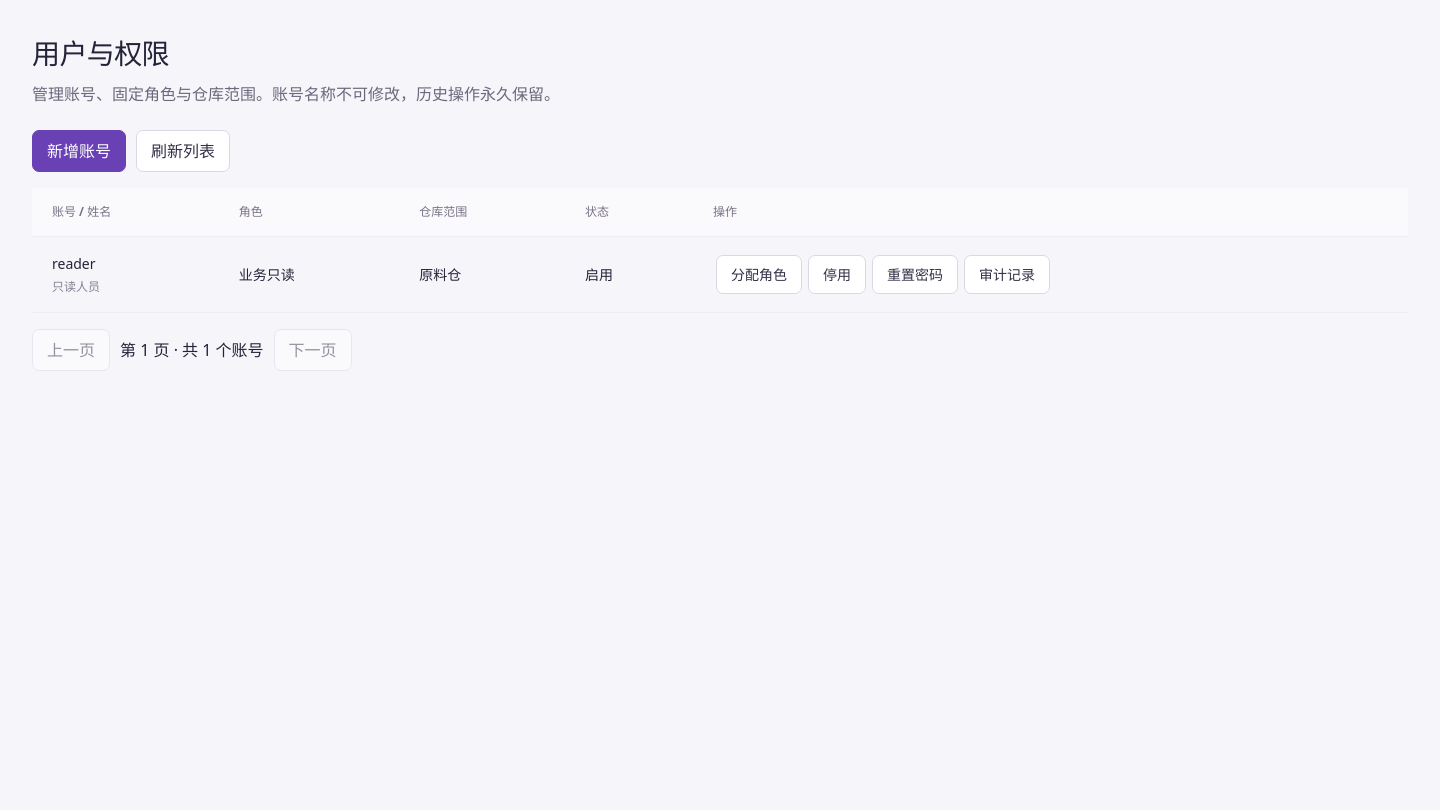
Scenario: sends version and reason when disabling an account
Click the button "停用" at {"x": 837, "y": 274}, box 808,255 -> 866,294
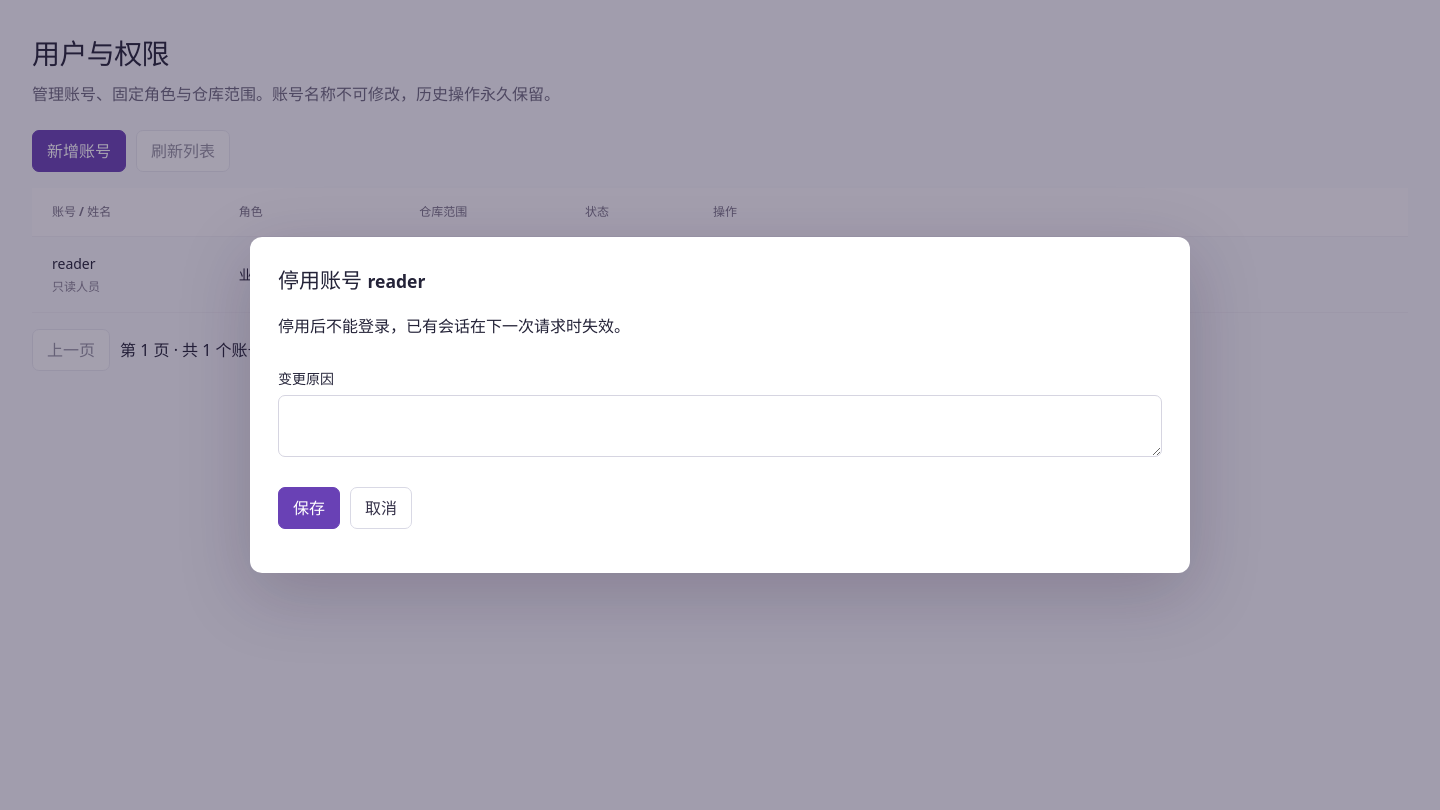
Type "员工离职" into the text box labelled "变更原因" at {"x": 720, "y": 426}, box 278,395 -> 1162,457
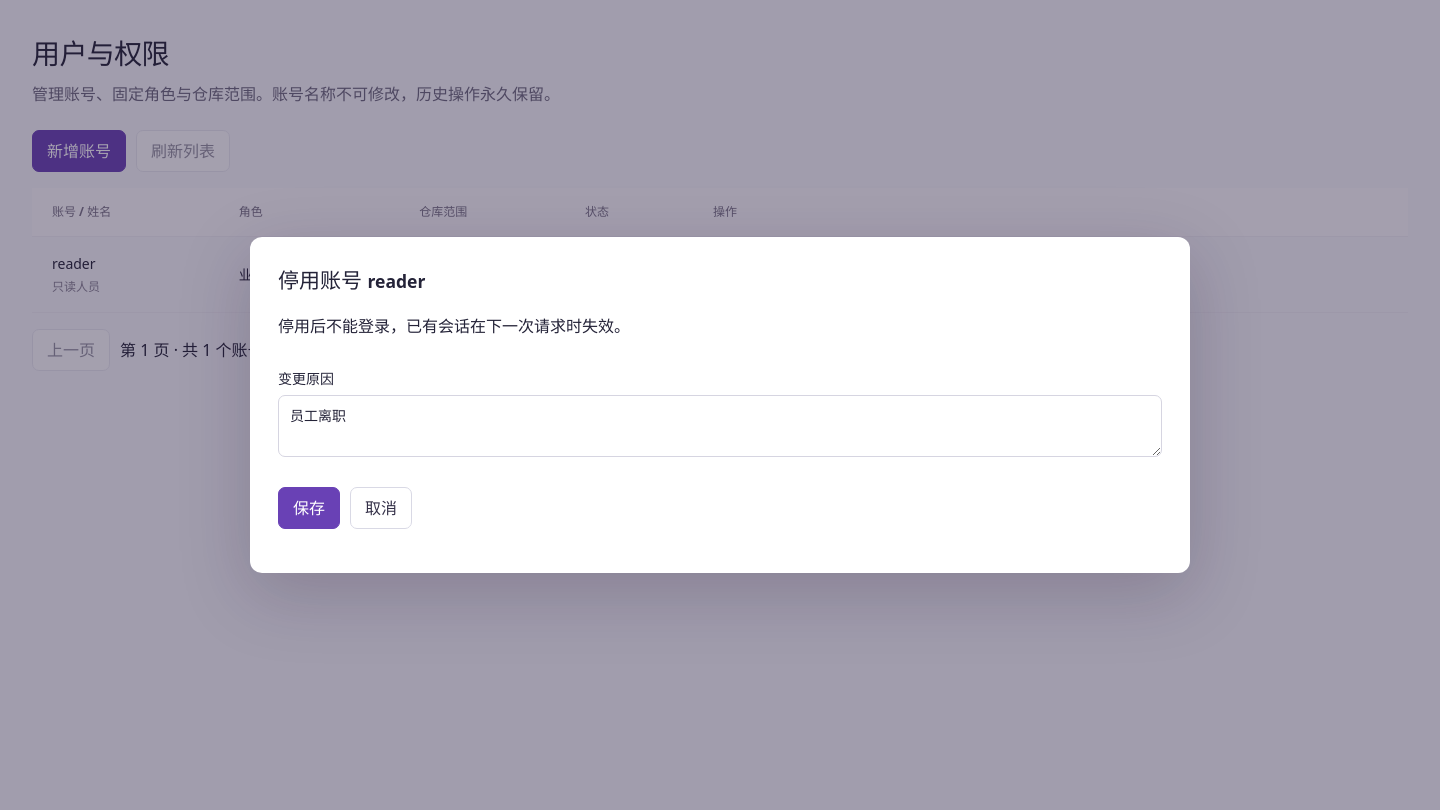
Submit the form, box 278,314 -> 1162,545
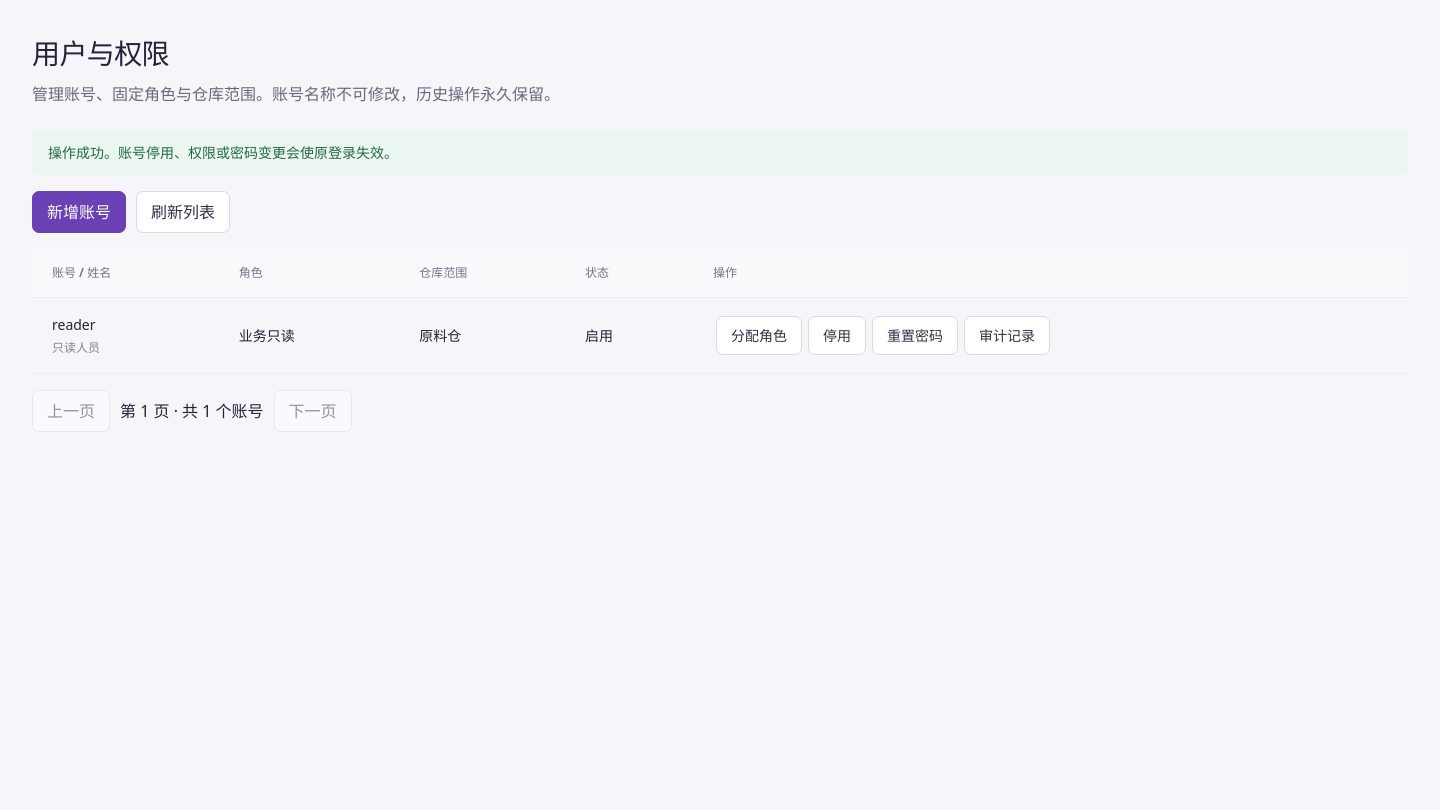
Check: the text "操作成功" is shown, box 48,143 -> 398,162
